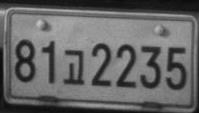1: (39, 39, 59, 84)
2: (90, 41, 111, 86), (115, 43, 136, 88)
3: (139, 45, 162, 89)
5: (165, 47, 187, 91)
8: (13, 38, 36, 82)
고: (63, 49, 84, 85)
